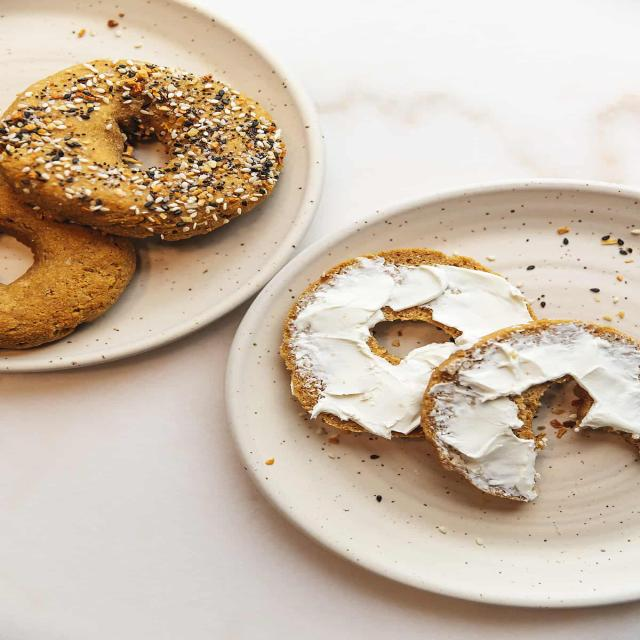Bagel: (0, 60, 285, 240), (281, 249, 534, 439), (422, 320, 640, 501), (0, 179, 137, 349)
